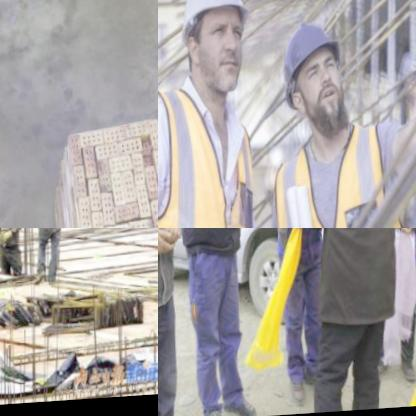helmet: (273, 11, 351, 139), (169, 0, 256, 101)
